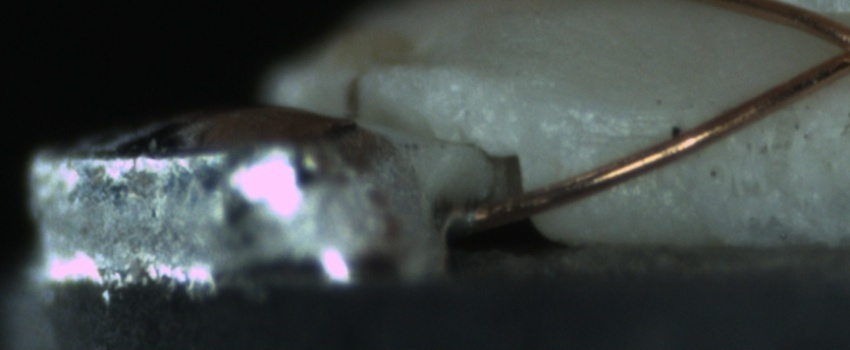CL: (807, 13, 850, 80)
